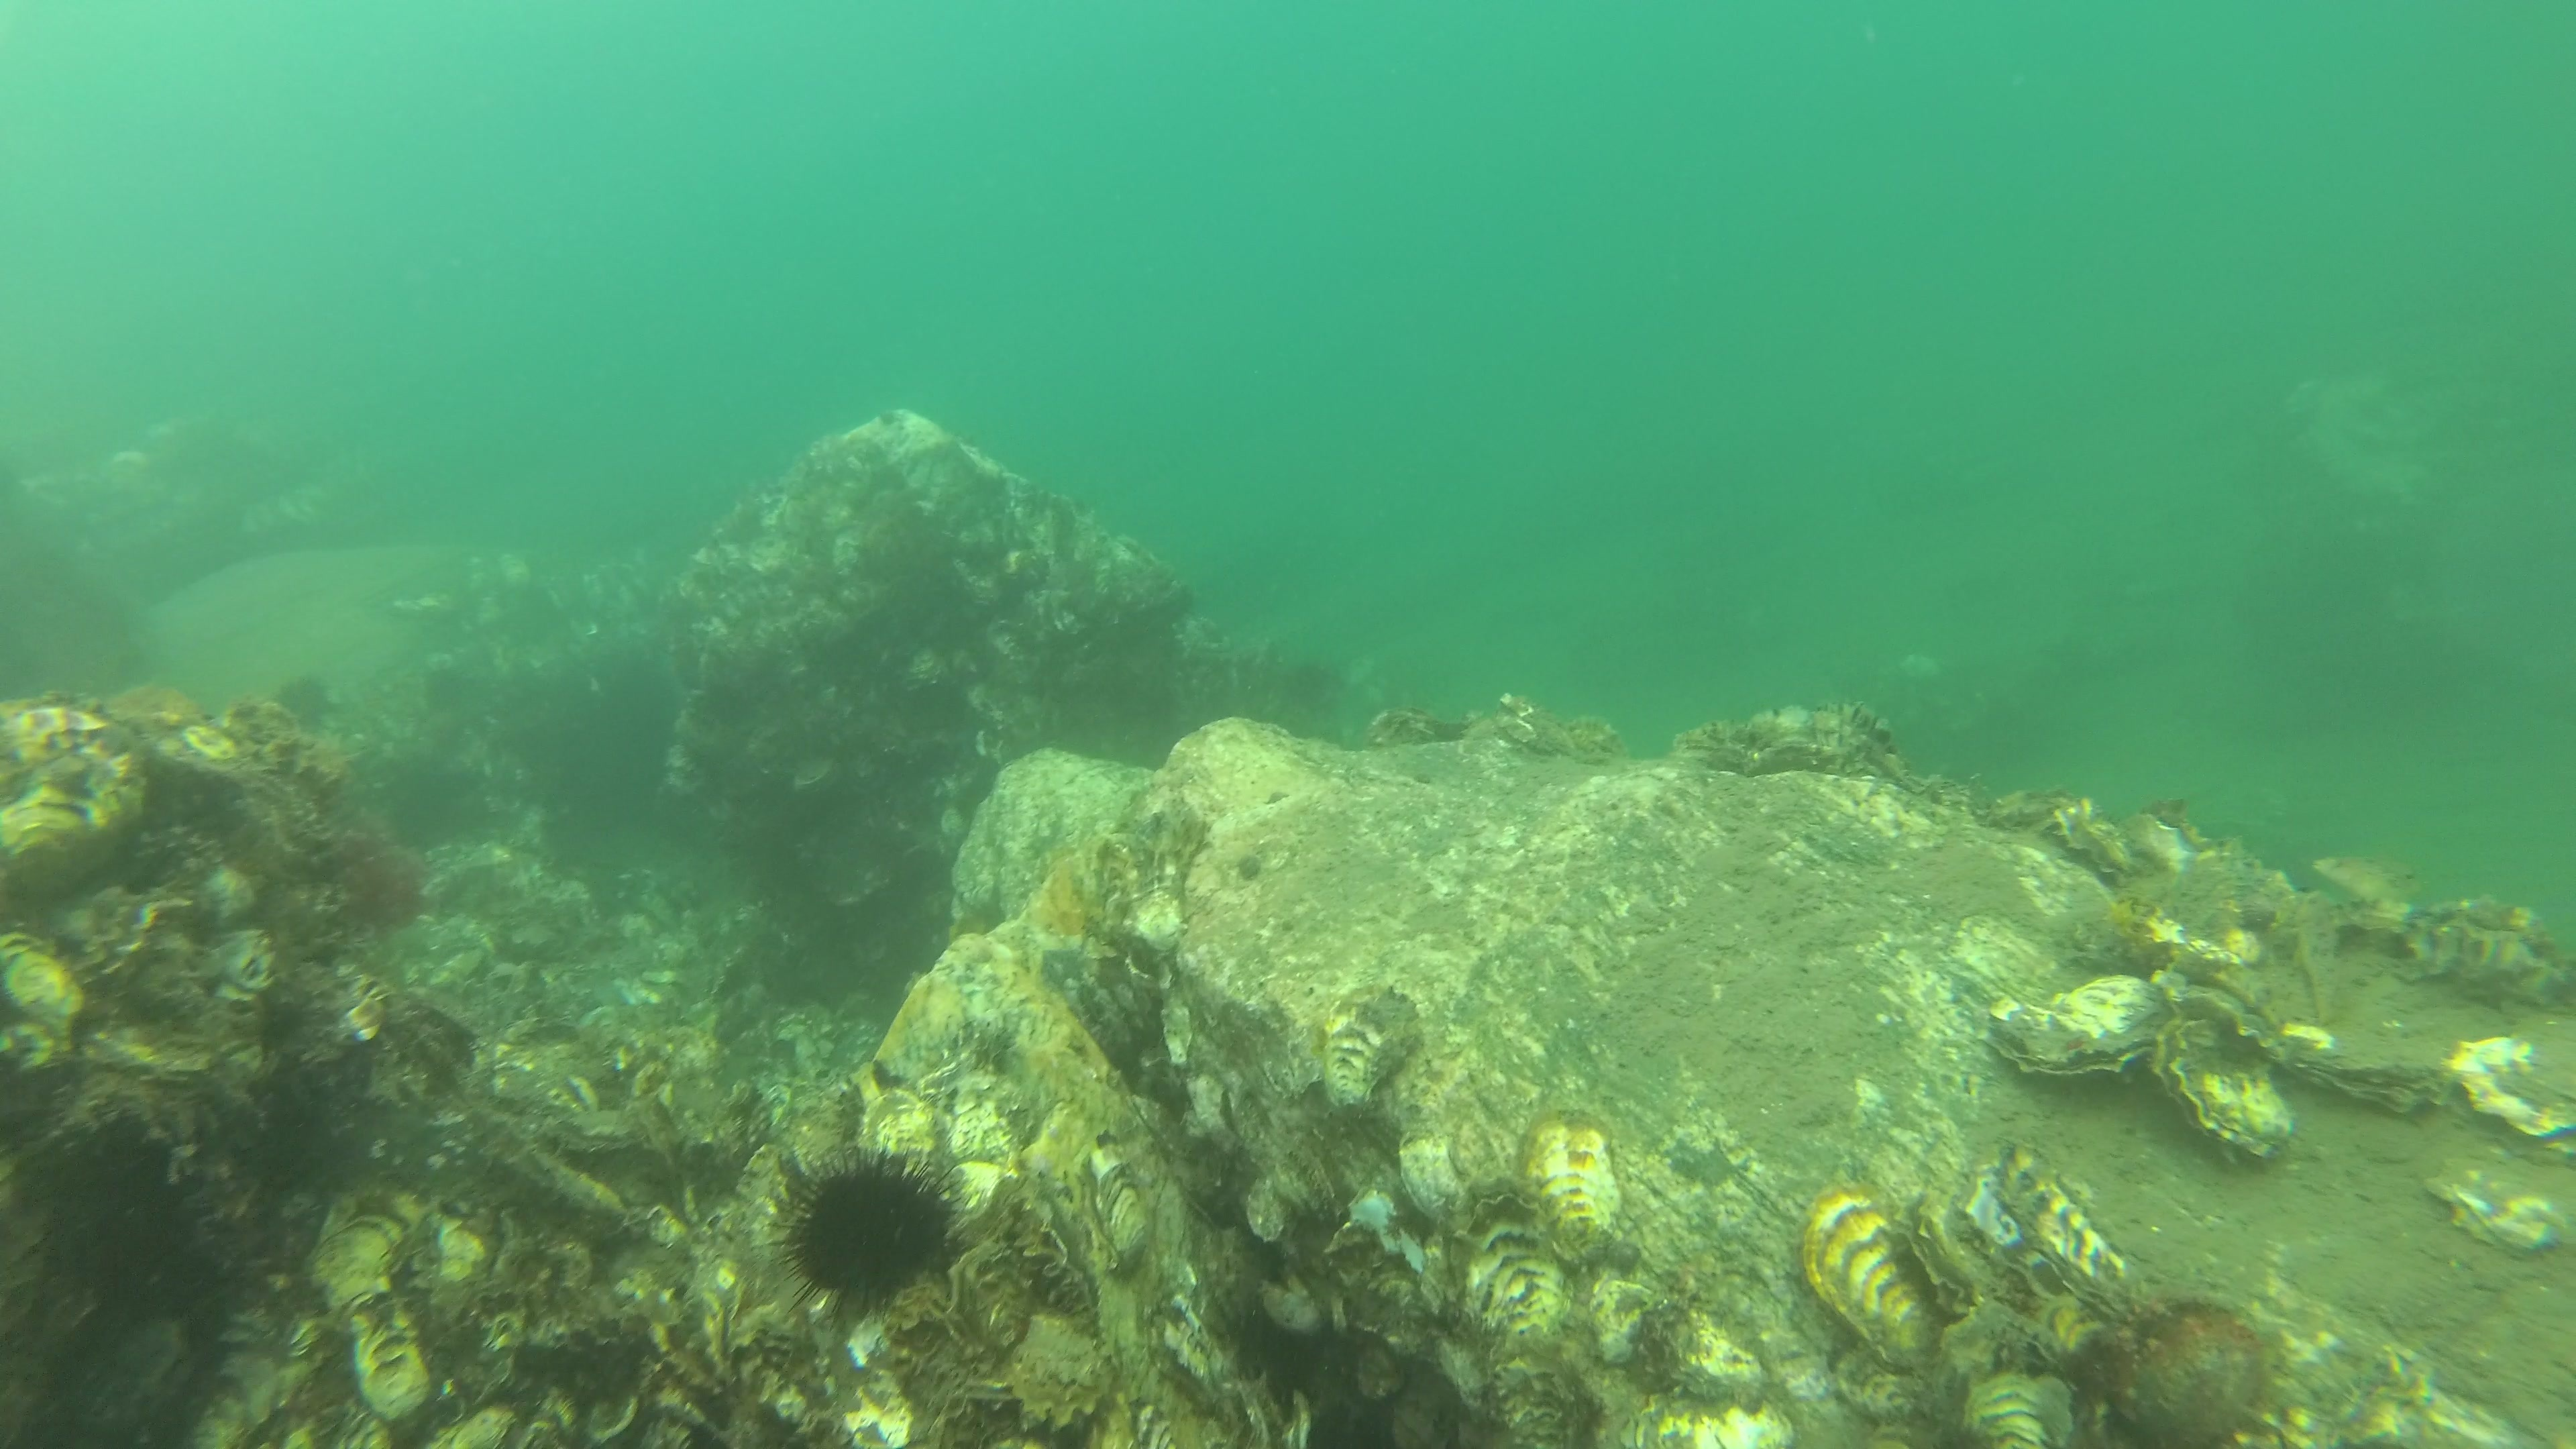echinus: (764, 1138, 982, 1322), (244, 648, 340, 738), (398, 635, 494, 725)
